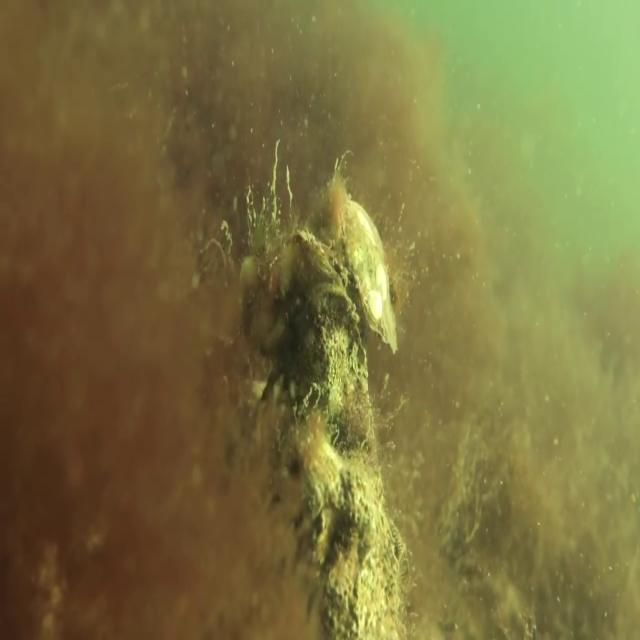Oyster-Closed: (323, 176, 406, 358)
Oyster-Indeterminate: (240, 225, 346, 360), (294, 280, 376, 428)
